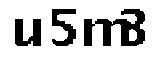3: (118, 4, 148, 49)
5: (49, 5, 78, 50)
m: (79, 16, 131, 55)
u: (9, 15, 44, 51)
